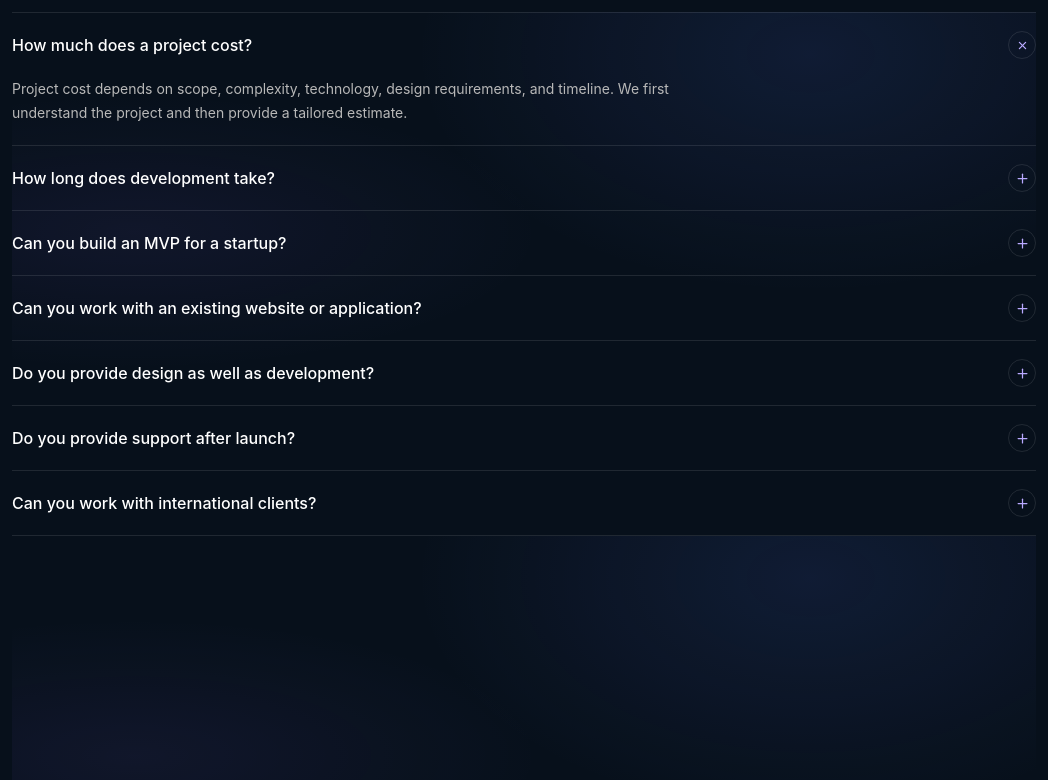
Scenario: <HomeFAQ /> › renders seven keyboard-operable questions and keeps one answer open at a time
Click the button "How long does development take?". click: x=144, y=178
box: x1=12 y1=146 x2=1036 y2=210
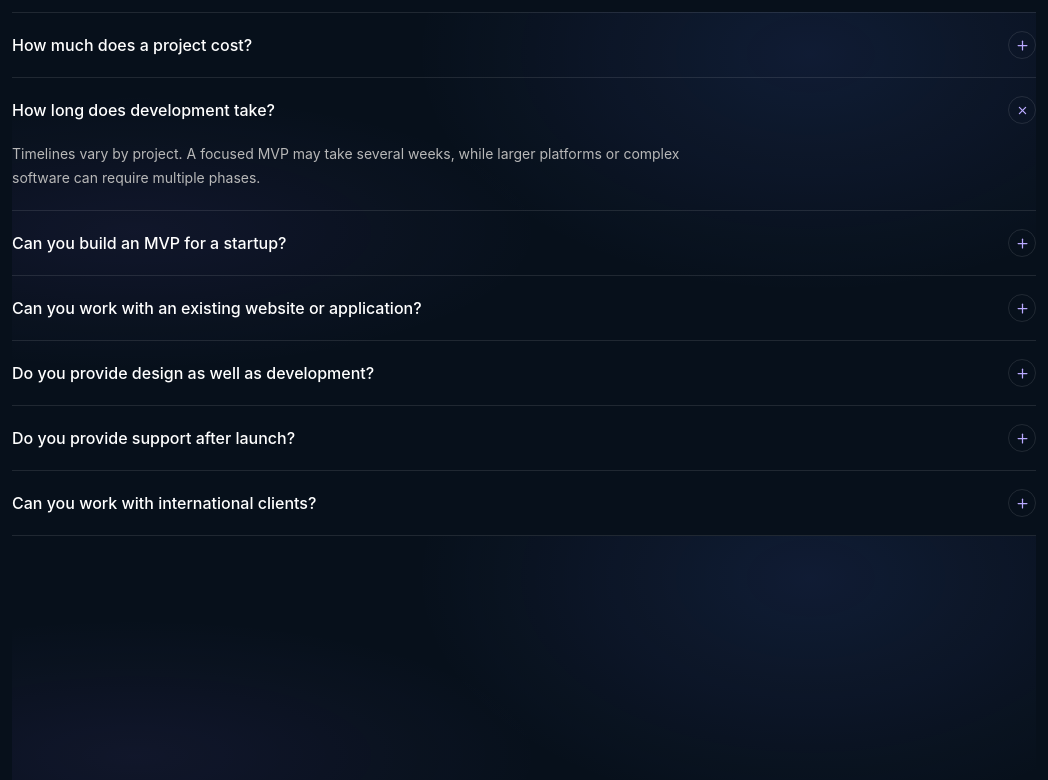
Expected: the text named "How long does development take?" is shown, x1=12 y1=142 x2=780 y2=210
Result: the button "How much does a project cost?" is collapsed at x1=12 y1=13 x2=1036 y2=77
Result: the button "How long does development take?" is expanded at x1=12 y1=78 x2=1036 y2=142
